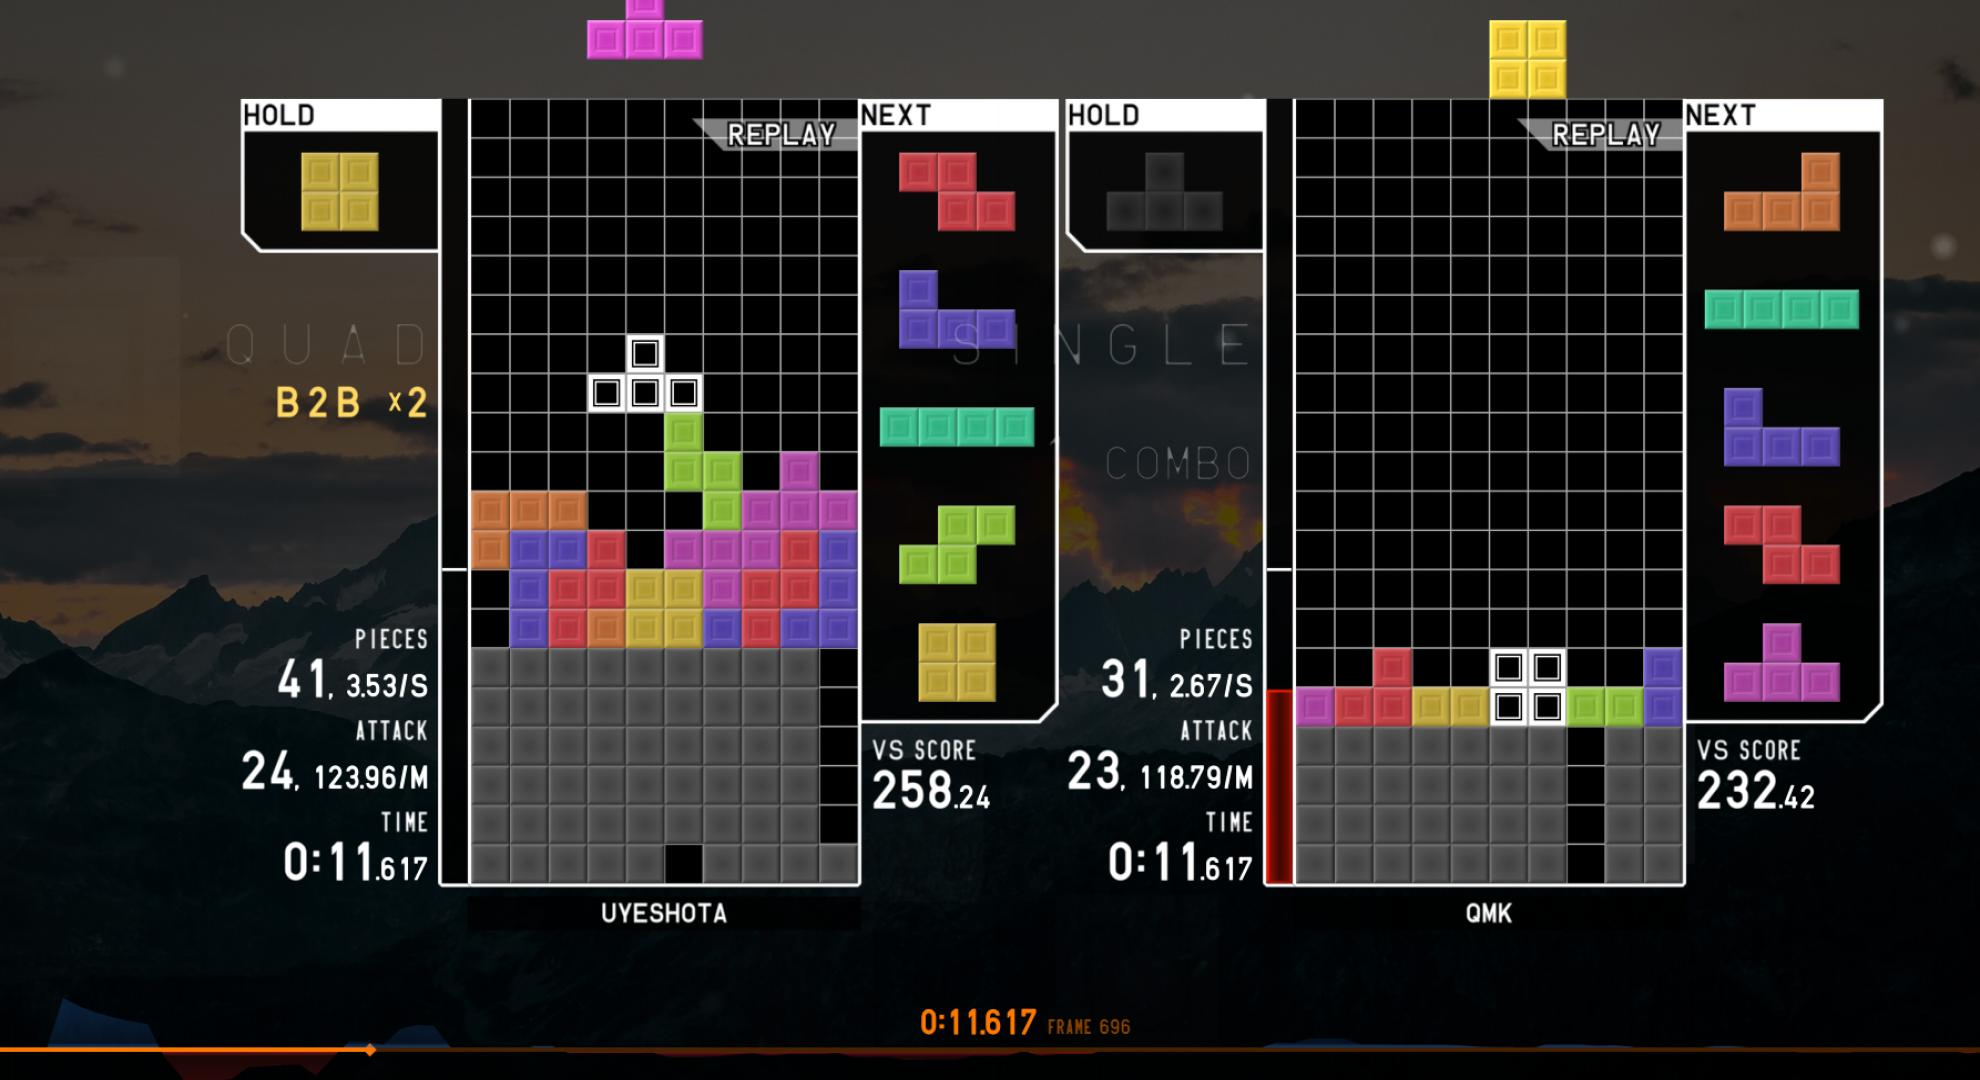tspin: (589, 455, 703, 575)
